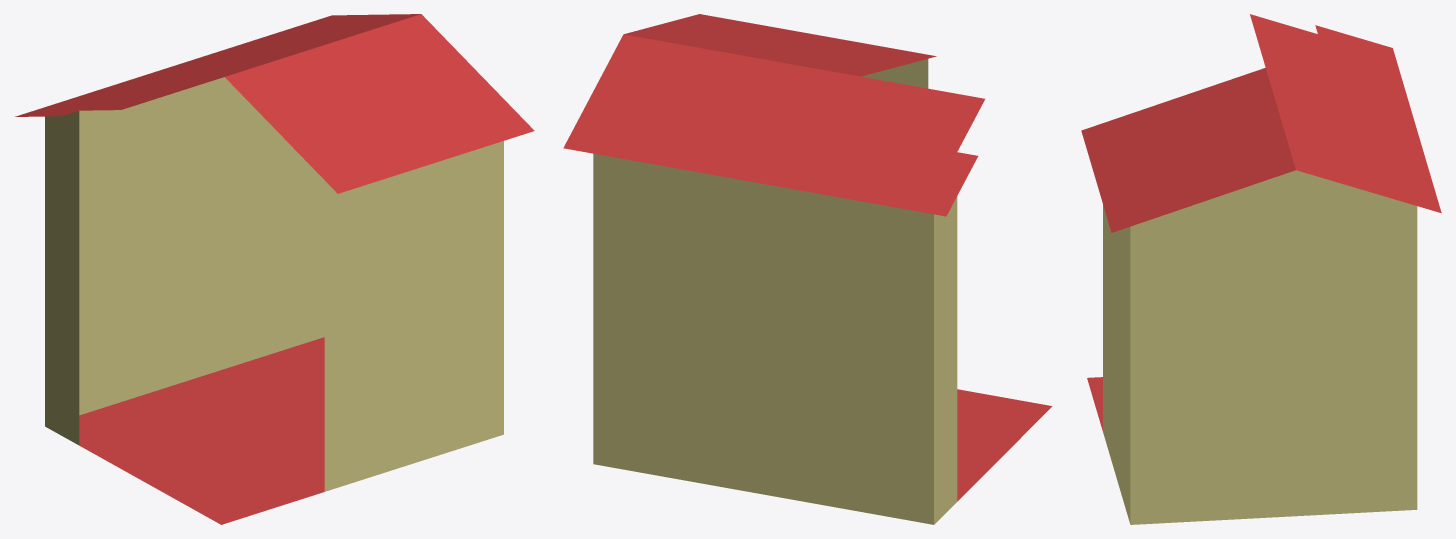
The picture shows the model from 3 angles, left to right: view 1: azimuth 30°, elevation 25°; view 2: azimuth 150°, elevation 25°; view 3: azimuth 270°, elevation 25°; orthographic projection. The views are drawn at different scales.
Size of the model in its own units: 9.93 by 8.28 by 9.
